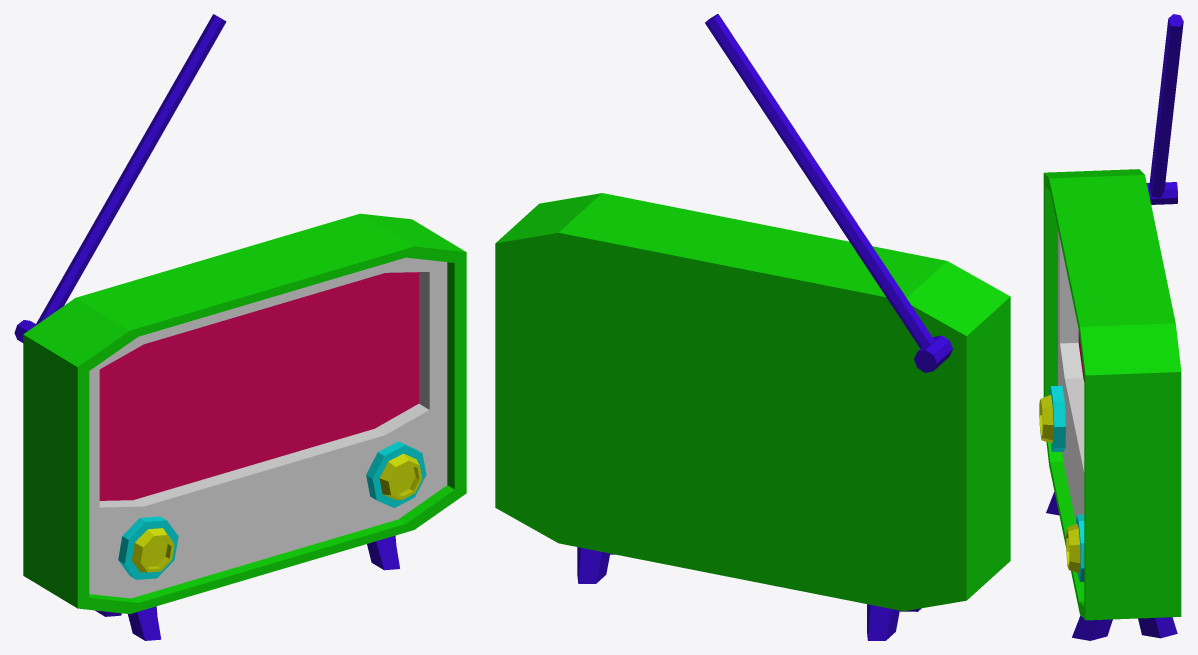
The model's file is radio.fbx.
The picture shows the model from 3 angles, left to right: view 1: azimuth 30°, elevation 25°; view 2: azimuth 150°, elevation 25°; view 3: azimuth 270°, elevation 25°; orthographic projection. The views are drawn at different scales.
Visible parts, largest first — view 1: Radio (Limonada); view 2: Radio (Limonada); view 3: Radio (Limonada).
Boxes of the visible parts, bbox=[...] form: Radio (Limonada): bbox=[14, 14, 466, 640]; Radio (Limonada): bbox=[495, 14, 1010, 640]; Radio (Limonada): bbox=[1039, 14, 1183, 640].
Bounding box in the file's own units: 1.51 × 1.9 × 0.4458.
